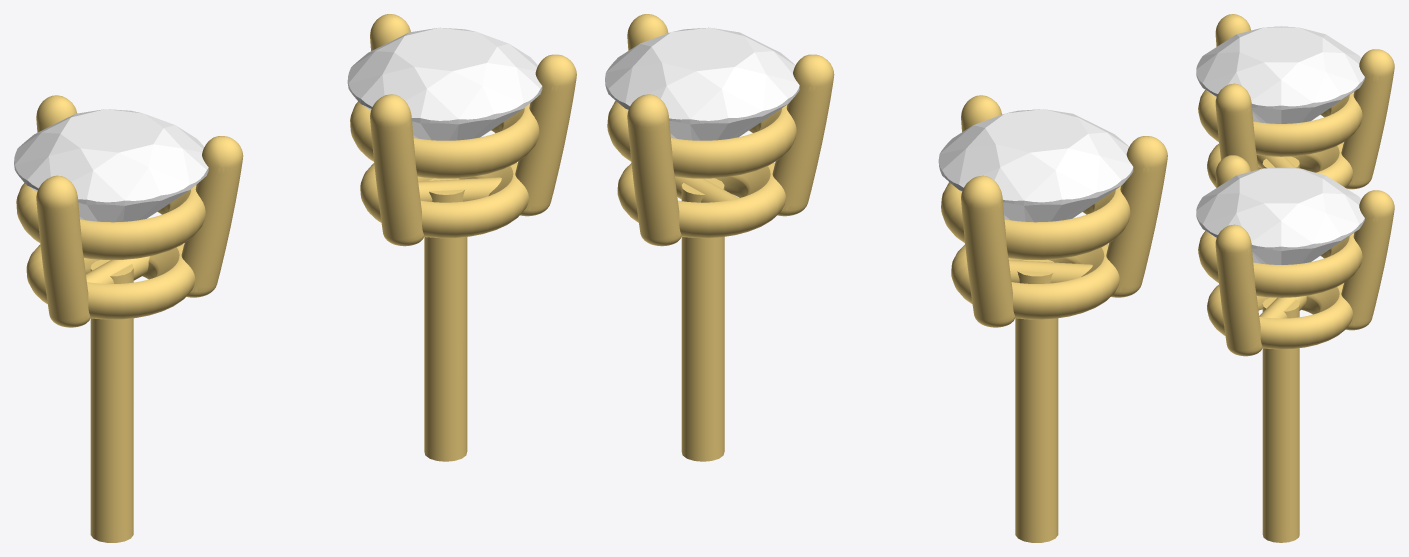
File: Adamrubystraight_webgi.glb
The picture shows the model from 3 angles, left to right: view 1: azimuth 30°, elevation 25°; view 2: azimuth 150°, elevation 25°; view 3: azimuth 270°, elevation 25°; orthographic projection. The views are drawn at different scales.
Parts seen in each view (by area): view 1: Adam_YG_for_3d_model, Adam_ruby_for_3d_model, Adam_ruby_for_3d_model001; view 2: Adam_YG_for_3d_model, Adam_ruby_for_3d_model, Adam_ruby_for_3d_model001; view 3: Adam_YG_for_3d_model, Adam_ruby_for_3d_model, Adam_ruby_for_3d_model001.
Boxes of the visible parts, x1=… form: Adam_YG_for_3d_model: x1=16, y1=14, x2=576, y2=542; Adam_ruby_for_3d_model: x1=347, y1=27, x2=542, y2=140; Adam_ruby_for_3d_model001: x1=14, y1=109, x2=208, y2=222; Adam_YG_for_3d_model: x1=607, y1=14, x2=1167, y2=542; Adam_ruby_for_3d_model: x1=605, y1=27, x2=799, y2=140; Adam_ruby_for_3d_model001: x1=938, y1=109, x2=1133, y2=222; Adam_YG_for_3d_model: x1=1198, y1=14, x2=1394, y2=542; Adam_ruby_for_3d_model: x1=1196, y1=167, x2=1364, y2=264; Adam_ruby_for_3d_model001: x1=1196, y1=26, x2=1364, y2=123.
Bounding box in the file's own units: 3.11 × 2.24 × 1.15.
